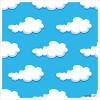sky: (2, 2, 100, 98)
